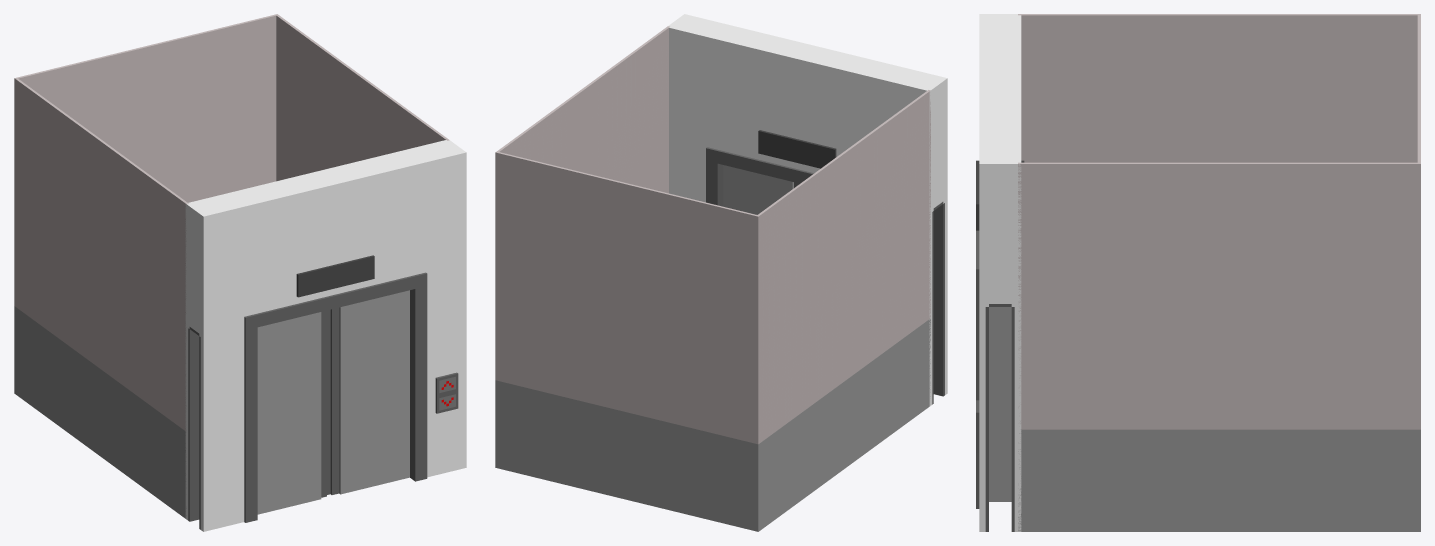
Rendered from Elevator_1.fbx.
3 renders of one model, left to right at view 1: azimuth 30°, elevation 25°; view 2: azimuth 150°, elevation 25°; view 3: azimuth 270°, elevation 25°, orthographic. The views are drawn at different scales.
Visible parts, largest first — view 1: Elevator_Body_1.001, Elevator_Door_1-2.000, Elevator_Door_1-2.003, Elevator_Door_1-2.001; view 2: Elevator_Body_1.001, Elevator_Door_1-2.000, Elevator_Door_1-2.003; view 3: Elevator_Body_1.001, Elevator_Door_1-2.000, Elevator_Door_1-2.003.
Boxes of the visible parts, left/top/right/bottom form: Elevator_Body_1.001: left=14, top=14, right=449, bottom=518; Elevator_Door_1-2.000: left=185, top=140, right=466, bottom=531; Elevator_Door_1-2.003: left=328, top=290, right=409, bottom=494; Elevator_Door_1-2.001: left=257, top=310, right=328, bottom=514; Elevator_Body_1.001: left=495, top=26, right=930, bottom=531; Elevator_Door_1-2.000: left=668, top=14, right=947, bottom=406; Elevator_Door_1-2.003: left=723, top=165, right=799, bottom=214; Elevator_Body_1.001: left=1018, top=14, right=1420, bottom=531; Elevator_Door_1-2.000: left=976, top=14, right=1024, bottom=531; Elevator_Door_1-2.003: left=989, top=307, right=1011, bottom=501.
Size of the model in its own units: 1100 by 1260 by 1380.
